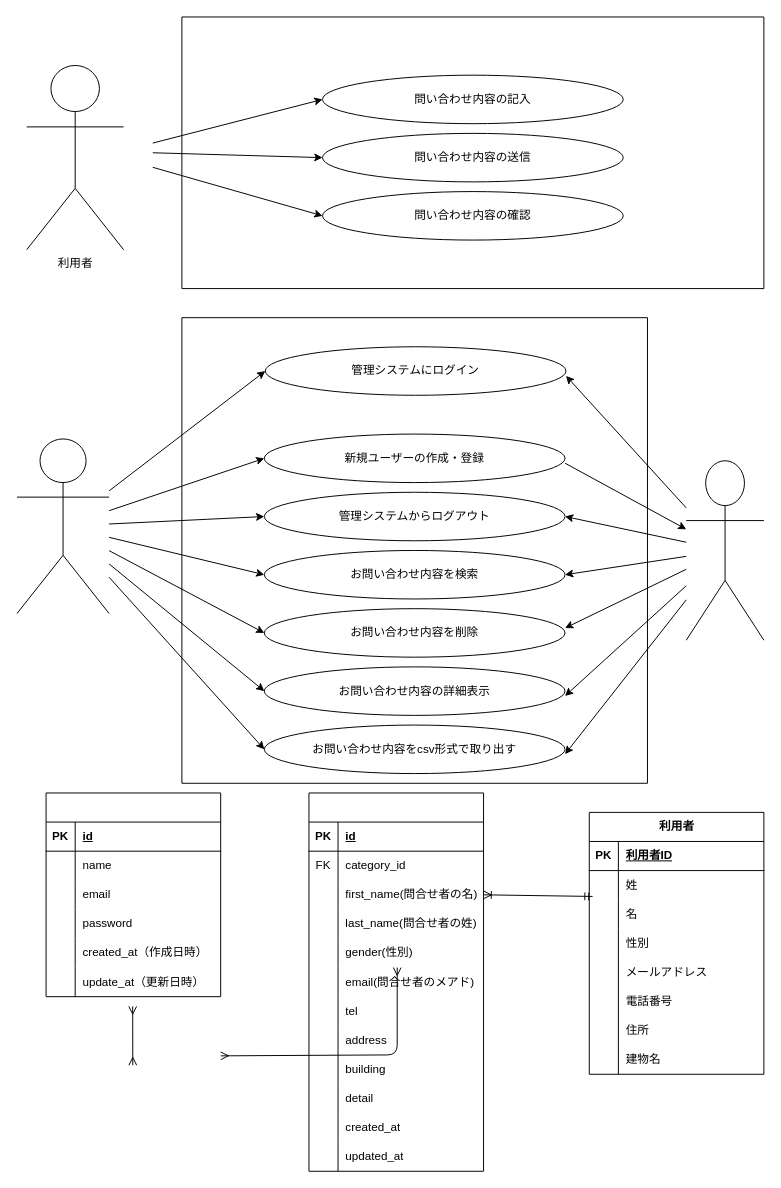
Some shapes in this 781 by 1188 pixel diagram are drawn without their labels. Here are the shapes that lost their labels. From the top down, the box of each, then its label:
(181, 16, 764, 289): 問い合わせ送信システム
(16, 438, 109, 614): 管理者
(181, 317, 647, 783): 問い合わせ管理システム
(685, 460, 764, 640): 新規管理者
(45, 792, 221, 997): users
(308, 792, 484, 1171): contacts
